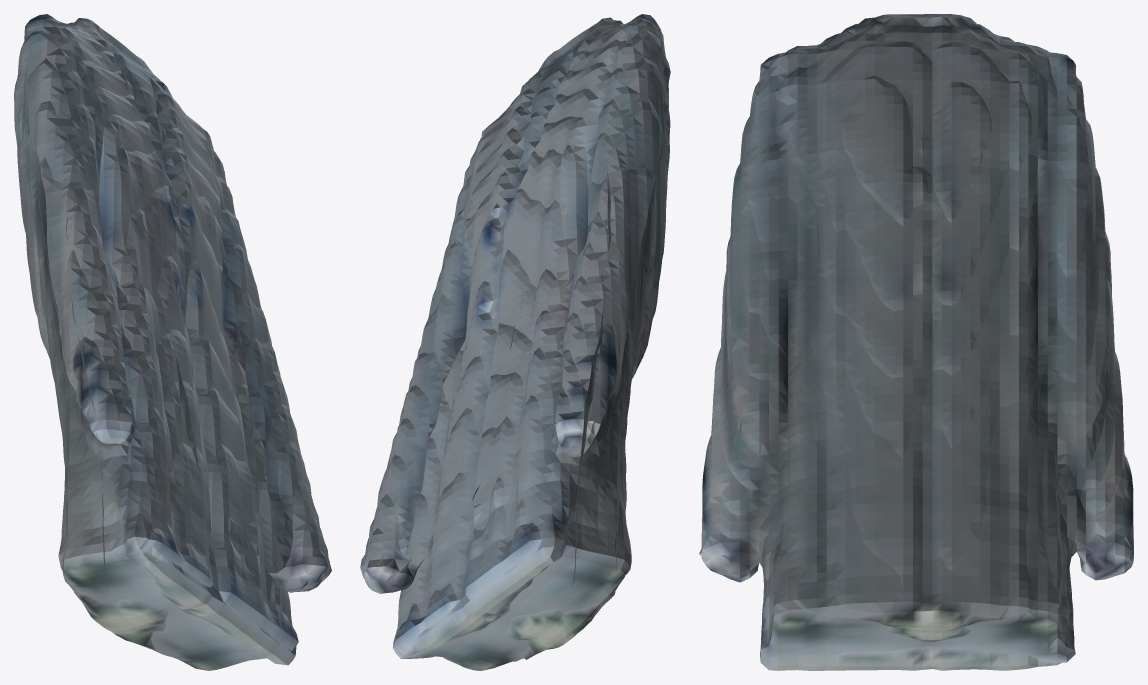
Rendered from AgSCVfoKPto5gvZLaIXS-draft.glb.
3 views of the same model, side by side, from view 1: azimuth 30°, elevation 25°; view 2: azimuth 150°, elevation 25°; view 3: azimuth 270°, elevation 25° (orthographic).
Visible parts, largest first — view 1: world; view 2: world; view 3: world.
Boxes of the visible parts, x1,y1,x2,y2 form: world: (14,14,331,670); world: (360,14,670,670); world: (699,14,1133,670).
Bounding box in the file's own units: 0.2825 × 0.9444 × 0.6199.
